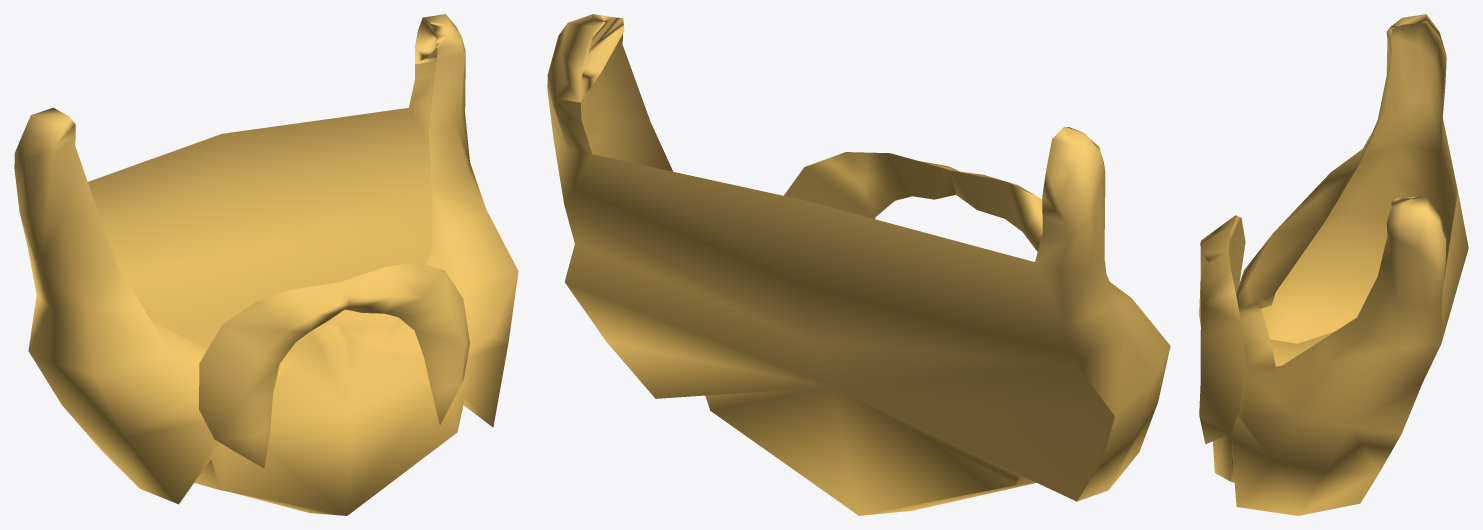
File: Beard_Yellow_13.fbx
3 views of the same model, side by side, from view 1: azimuth 30°, elevation 25°; view 2: azimuth 150°, elevation 25°; view 3: azimuth 270°, elevation 25° (orthographic). The views are drawn at different scales.
Visible parts, largest first — view 1: Beard_Yellow_13; view 2: Beard_Yellow_13; view 3: Beard_Yellow_13.
Boxes of the visible parts, bbox=[...] form: Beard_Yellow_13: bbox=[14, 14, 518, 515]; Beard_Yellow_13: bbox=[547, 14, 1170, 515]; Beard_Yellow_13: bbox=[1199, 14, 1468, 515].
Bounding box in the file's own units: 54.32 × 45.47 × 28.75.
